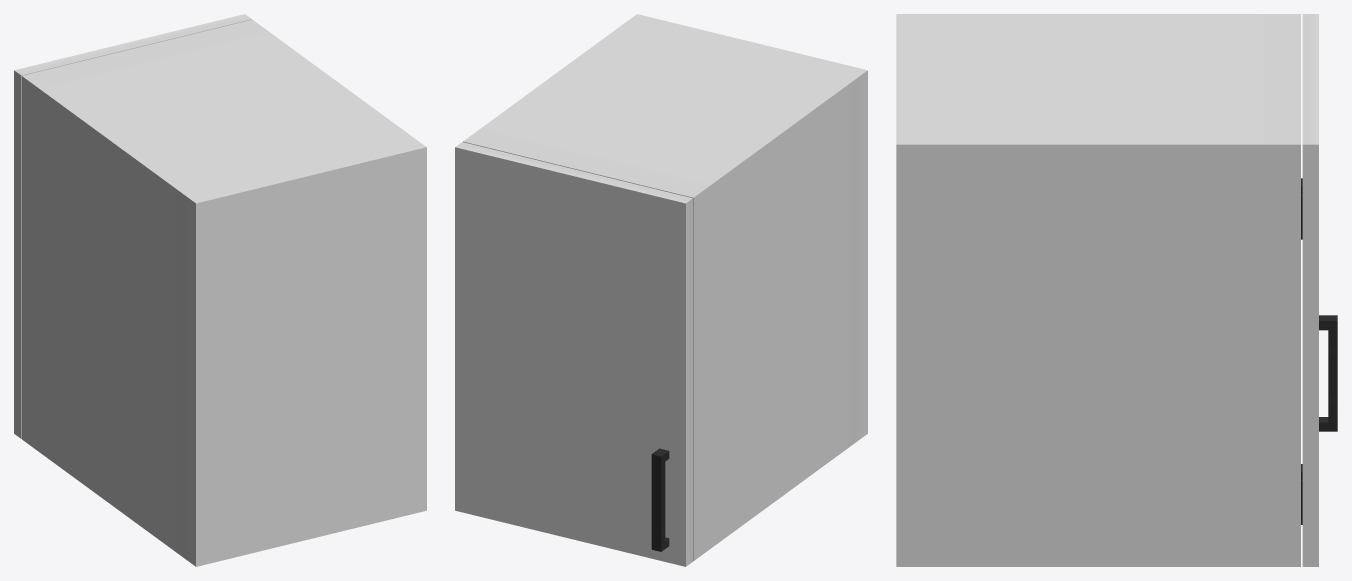
Rendered from CabinetE06.glb.
3 views of the same model, side by side, from view 1: azimuth 30°, elevation 25°; view 2: azimuth 150°, elevation 25°; view 3: azimuth 270°, elevation 25° (orthographic). The views are drawn at different scales.
Visible parts, largest first — view 1: CabinetE06_model, CabinetE06Door; view 2: CabinetE06_model, CabinetE06Door; view 3: CabinetE06_model, CabinetE06Door.
Boxes of the visible parts, bbox=[...] form: CabinetE06_model: bbox=[22, 19, 426, 566]; CabinetE06Door: bbox=[14, 14, 251, 438]; CabinetE06_model: bbox=[463, 14, 867, 561]; CabinetE06Door: bbox=[455, 142, 692, 566]; CabinetE06_model: bbox=[896, 14, 1302, 566]; CabinetE06Door: bbox=[1301, 14, 1337, 566].
Bounding box in the file's own units: 0.9256 × 1.39 × 1.31.
Materials: 1 (1 with a texture image).
